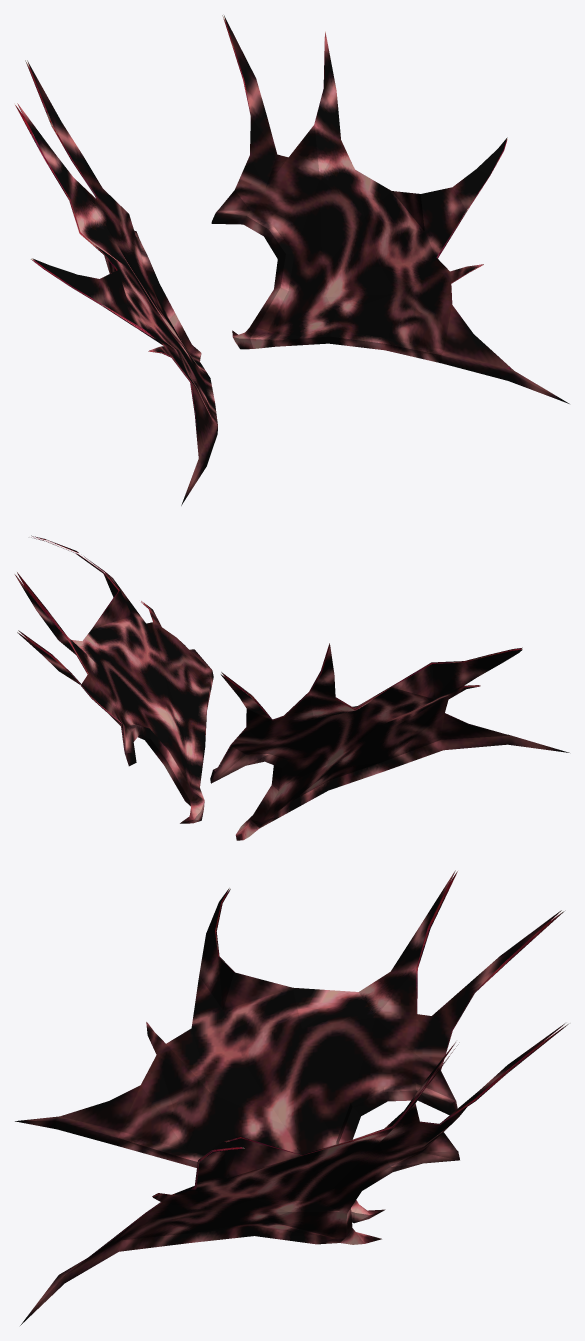
Rendered from cangyinchibang_wu.obj.
3 views of the same model, one above another, from view 1: azimuth 30°, elevation 25°; view 2: azimuth 150°, elevation 25°; view 3: azimuth 270°, elevation 25° (orthographic). The views are drawn at different scales.
Visible parts, largest first — view 1: liuguang_wu01, cangyinchibang_wu; view 2: liuguang_wu01, cangyinchibang_wu; view 3: liuguang_wu01, cangyinchibang_wu.
Boxes of the visible parts, bbox=[...] form: liuguang_wu01: bbox=[15, 15, 569, 505]; cangyinchibang_wu: bbox=[15, 16, 512, 457]; liuguang_wu01: bbox=[14, 535, 569, 840]; cangyinchibang_wu: bbox=[15, 536, 522, 771]; liuguang_wu01: bbox=[15, 870, 568, 1325]; cangyinchibang_wu: bbox=[61, 871, 568, 1267].
Size of the model in its own units: 130 by 66.29 by 118.
2 materials, 2 textured.
